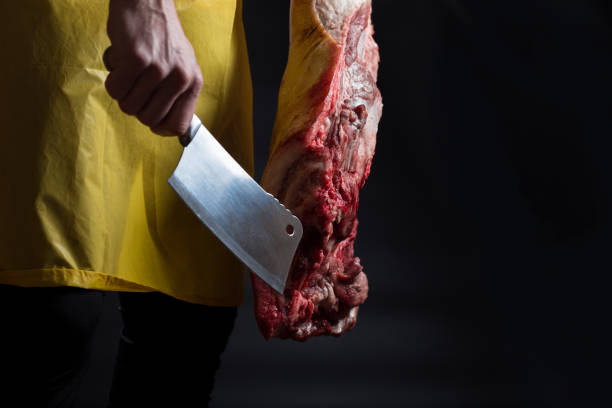knife: (100, 43, 305, 298)
